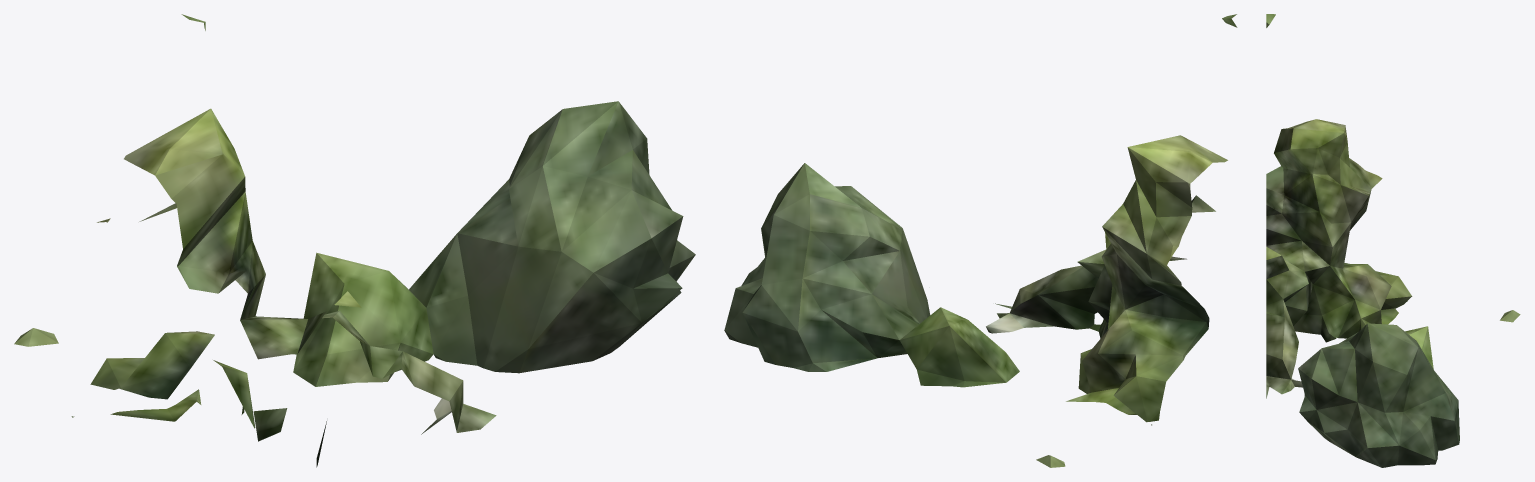
The picture shows the model from 3 angles, left to right: view 1: azimuth 30°, elevation 25°; view 2: azimuth 150°, elevation 25°; view 3: azimuth 270°, elevation 25°; orthographic projection. The views are drawn at different scales.
Bounding box in the file's own units: 21.04 × 16.42 × 13.17.
1 material, 1 textured.
